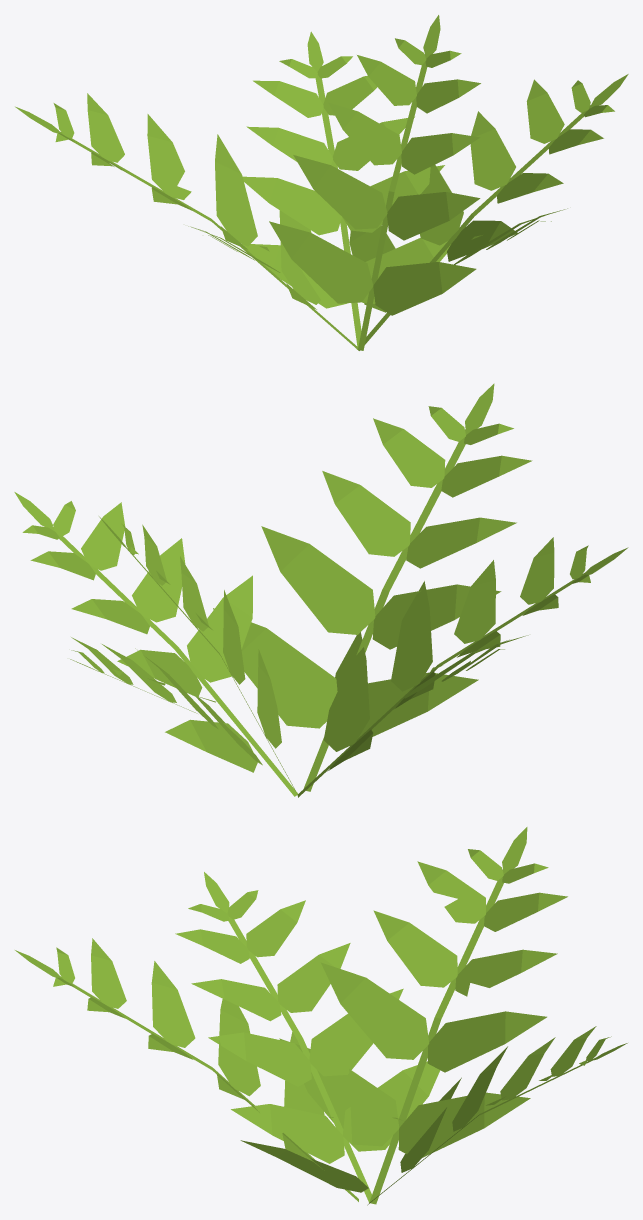
Rendered from grass-fern-mature-a.gltf.
The picture shows the model from 3 angles, top to bottom: view 1: azimuth 30°, elevation 25°; view 2: azimuth 150°, elevation 25°; view 3: azimuth 270°, elevation 25°; orthographic projection. The views are drawn at different scales.
Parts seen in each view (by area): view 1: grass-fern-mature-a; view 2: grass-fern-mature-a; view 3: grass-fern-mature-a.
Boxes of the visible parts, left/top/right/bottom form: grass-fern-mature-a: left=15, top=15, right=628, bottom=350; grass-fern-mature-a: left=14, top=383, right=628, bottom=797; grass-fern-mature-a: left=15, top=827, right=627, bottom=1205.
Size of the model in its own units: 0.0155 by 0.00739 by 0.0156.
